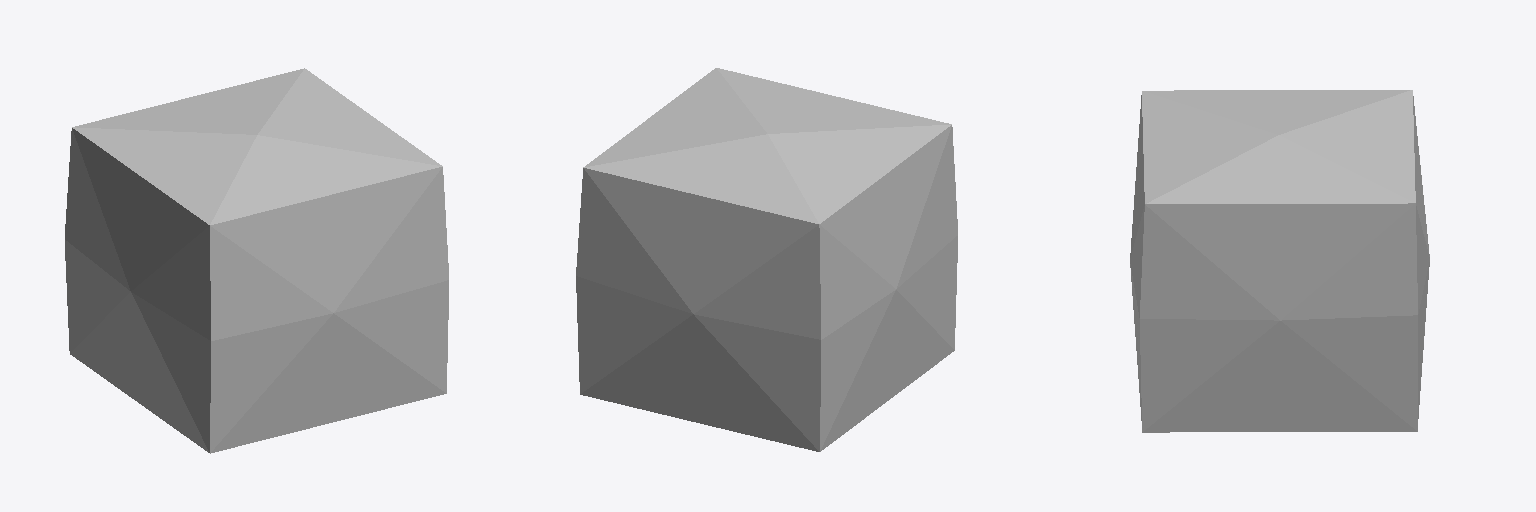
The model's file is Weapon Crate.obj.
3 renders of one model, left to right at view 1: azimuth 30°, elevation 25°; view 2: azimuth 150°, elevation 25°; view 3: azimuth 270°, elevation 25°, orthographic.
Parts seen in each view (by area): view 1: Inst3D_RefRep.278; view 2: Inst3D_RefRep.278; view 3: Inst3D_RefRep.278.
Part boxes in pixels (bbox=[...]): Inst3D_RefRep.278: bbox=[65, 68, 448, 453]; Inst3D_RefRep.278: bbox=[576, 68, 957, 451]; Inst3D_RefRep.278: bbox=[1130, 90, 1429, 432].
Size of the model in its own units: 3.14 by 2.87 by 3.22.